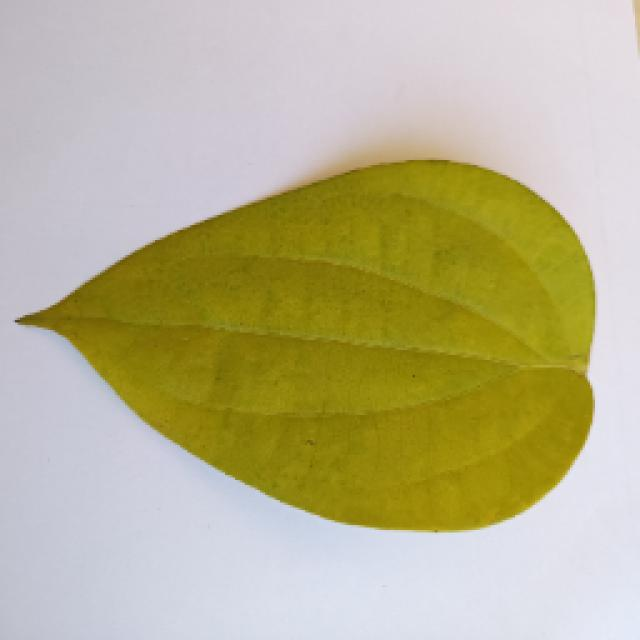slow-decline: (15, 160, 587, 530)
